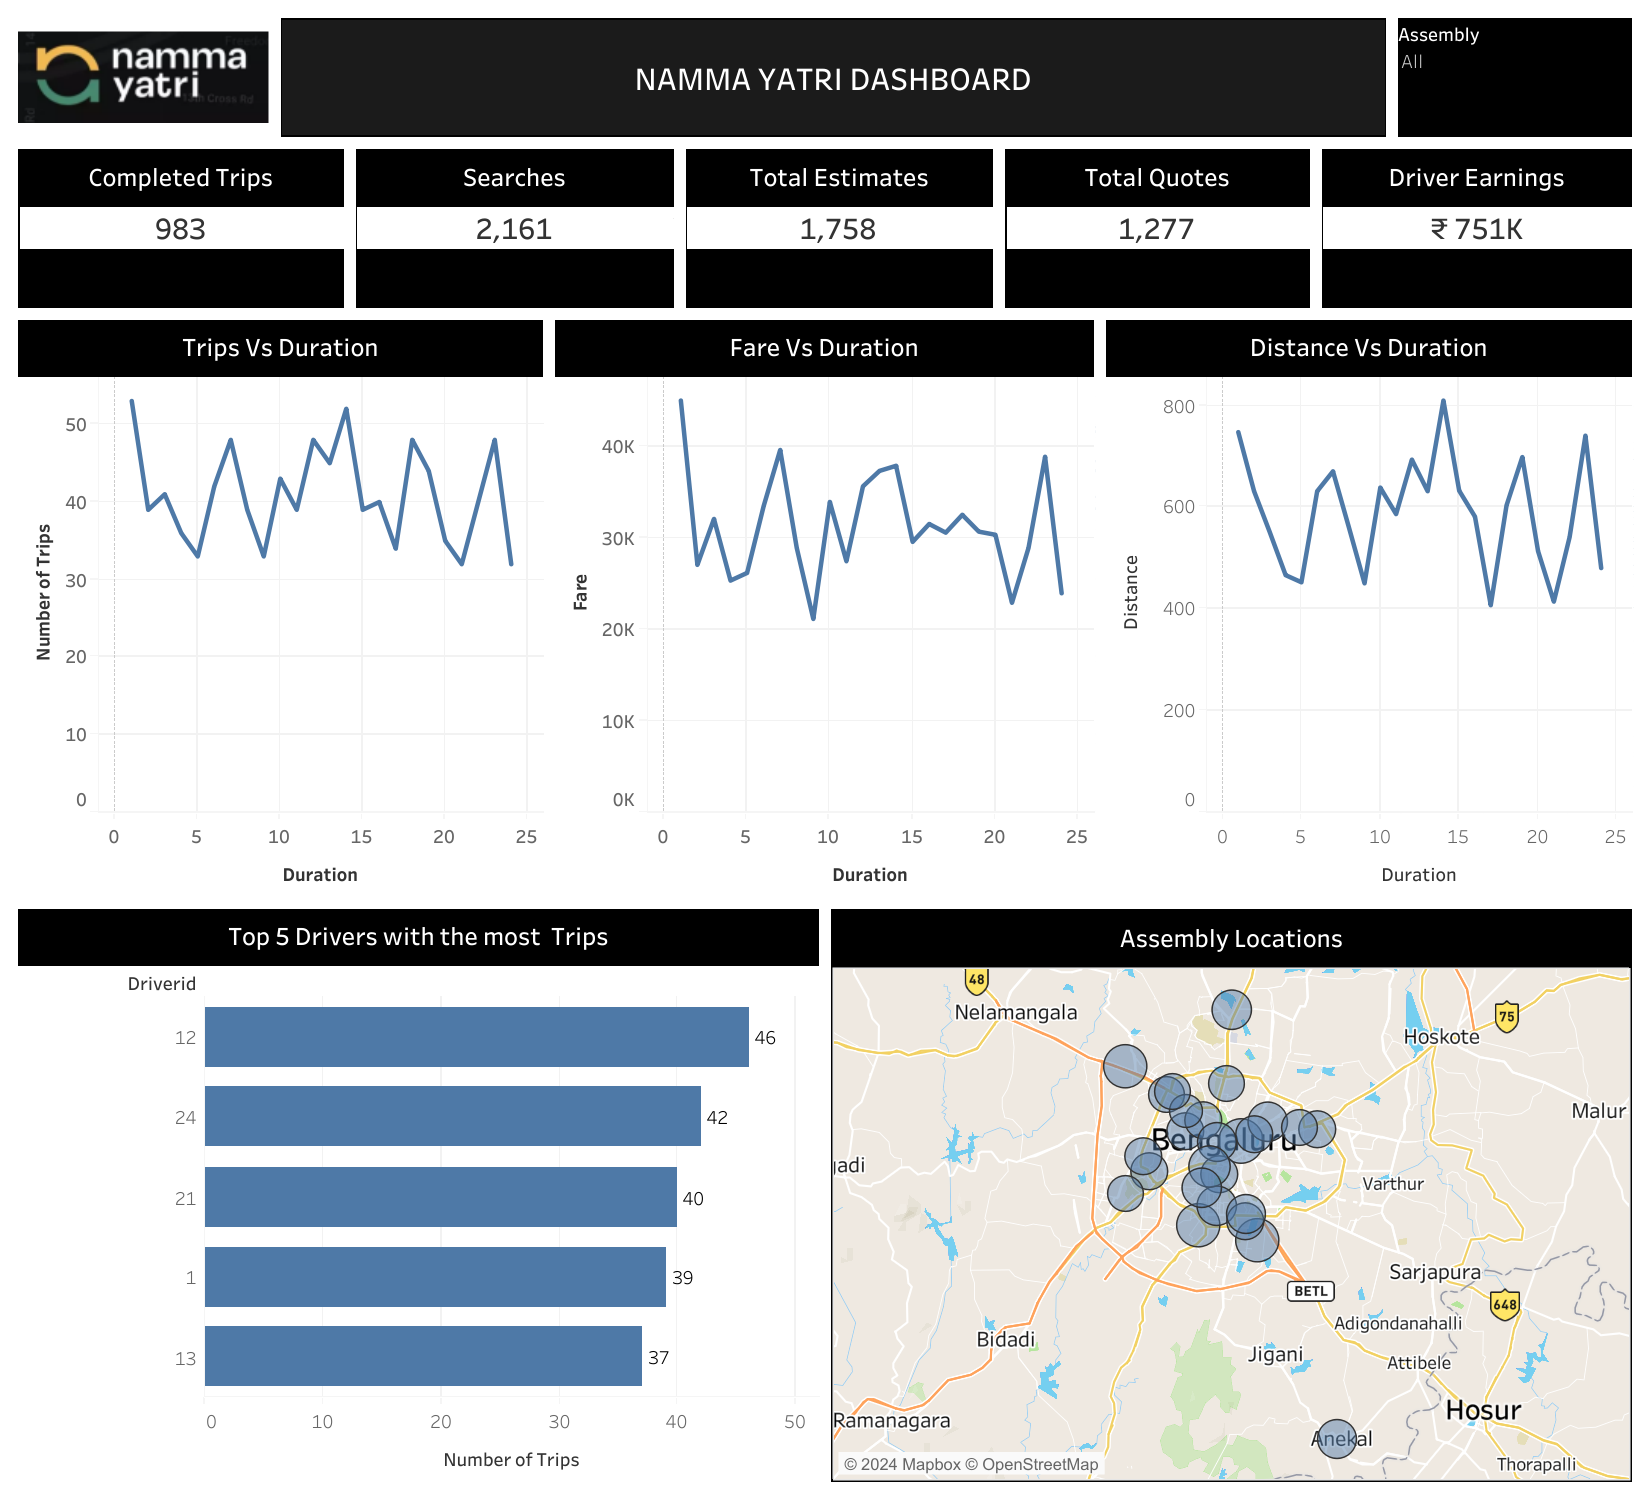

The dashboard page shown, as its layout file describes it:
{"tool":"tableau","page":{"name":"Namma Yatri Dashboard","canvas":[1100,1000],"ordinal":0},"visuals":[{"type":"image","param":"Image/Screenshot 2024-07-07 185752.png","box":[8,8,175.3,87.4]},{"type":"text","box":[183.3,8,745.1,87.4]},{"type":"filter","title":"T D Earn","param":"[federated.15j519m0nxjcv313ffxx01ta9hxw].[none:Assembly:nk]","box":[928.4,8,163.6,87.4]},{"type":"worksheet","title":"TC Trips","mark":"Automatic","box":[8,95.4,225,113.7]},{"type":"worksheet","title":"T Searches","mark":"Automatic","box":[233,95.4,220,113.7]},{"type":"worksheet","title":"T Estimates","mark":"Automatic","box":[453,95.4,213,113.7]},{"type":"worksheet","title":"T Quotes","mark":"Automatic","box":[666,95.4,211,113.7]},{"type":"worksheet","title":"T D Earn","mark":"Automatic","box":[877,95.4,215,113.7]},{"type":"worksheet","title":"Trips Vs Duration","mark":"Automatic","rows":["tripid (trips)"],"cols":["duration"],"box":[8,209,358,393]},{"type":"worksheet","title":"Fare Vs Duration","mark":"Automatic","rows":["fare"],"cols":["duration"],"box":[366,209,367,393]},{"type":"worksheet","title":"Dist Vs Duration","mark":"Automatic","rows":["distance"],"cols":["duration"],"box":[733,209,359,393]},{"type":"worksheet","title":"T5 Drivers","mark":"Automatic","rows":["driverid"],"cols":["tripid (trips)"],"box":[8,602,542,390]},{"type":"worksheet","title":"Map","mark":"Automatic","rows":["Latitude"],"cols":["Longitude"],"box":[550,602,542,390]}]}

Visuals, with their boxes in screenshot pixels (x1, y1, x2, y2), scaled from the page's 1100x1000 canvas onto the 1649x1499 screenshot:
image: BBox(12, 12, 275, 143)
text: BBox(275, 12, 1392, 143)
"T D Earn" filter: BBox(1392, 12, 1637, 143)
"TC Trips" worksheet: BBox(12, 143, 349, 313)
"T Searches" worksheet: BBox(349, 143, 679, 313)
"T Estimates" worksheet: BBox(679, 143, 998, 313)
"T Quotes" worksheet: BBox(998, 143, 1315, 313)
"T D Earn" worksheet: BBox(1315, 143, 1637, 313)
"Trips Vs Duration" worksheet: BBox(12, 313, 549, 902)
"Fare Vs Duration" worksheet: BBox(549, 313, 1099, 902)
"Dist Vs Duration" worksheet: BBox(1099, 313, 1637, 902)
"T5 Drivers" worksheet: BBox(12, 902, 824, 1487)
"Map" worksheet: BBox(824, 902, 1637, 1487)
